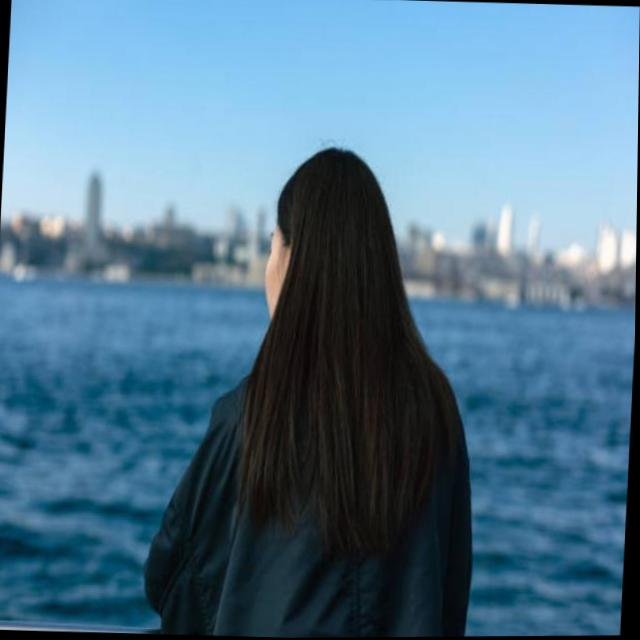no helmet: (251, 144, 429, 372)
